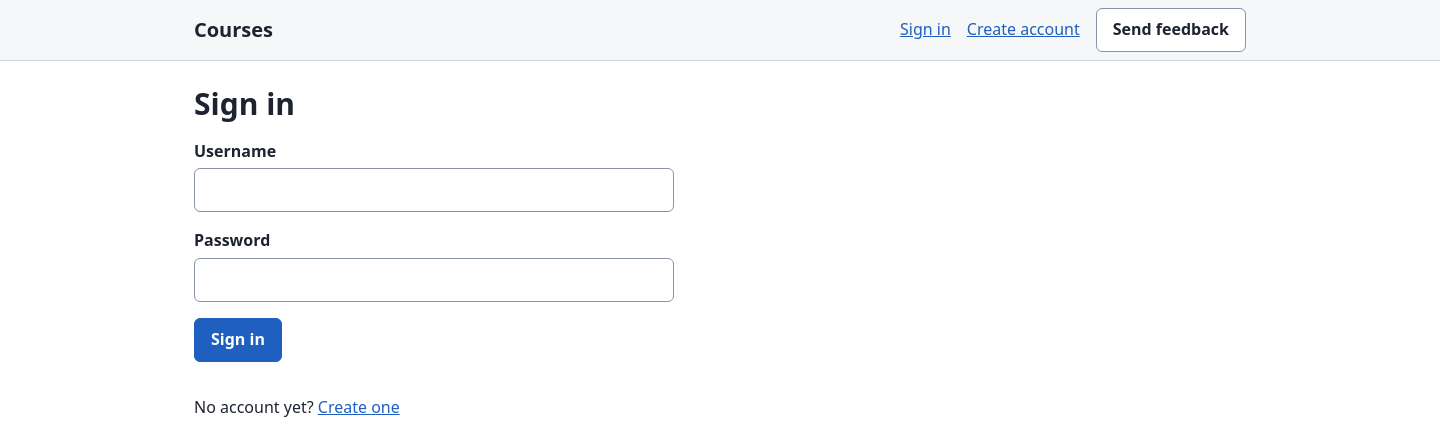
it: ignores a 401 not_authenticated for a request that started before the learner signed in
The image size is (1440, 434).
Expected: the field labelled "Username" is shown, [194,168,674,212]
Click the link "Courses" at (234, 30), box [194,8,273,52]
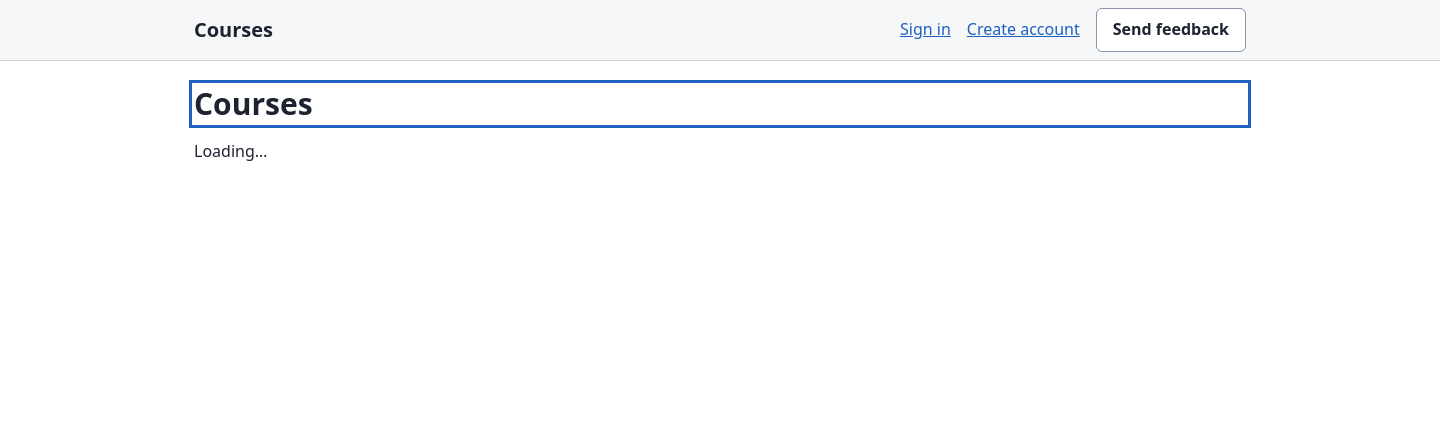
Now the element named "Course list" is shown, box [194,140,267,162]
Click the link "Sign in" at (925, 29), box [900,18,951,40]
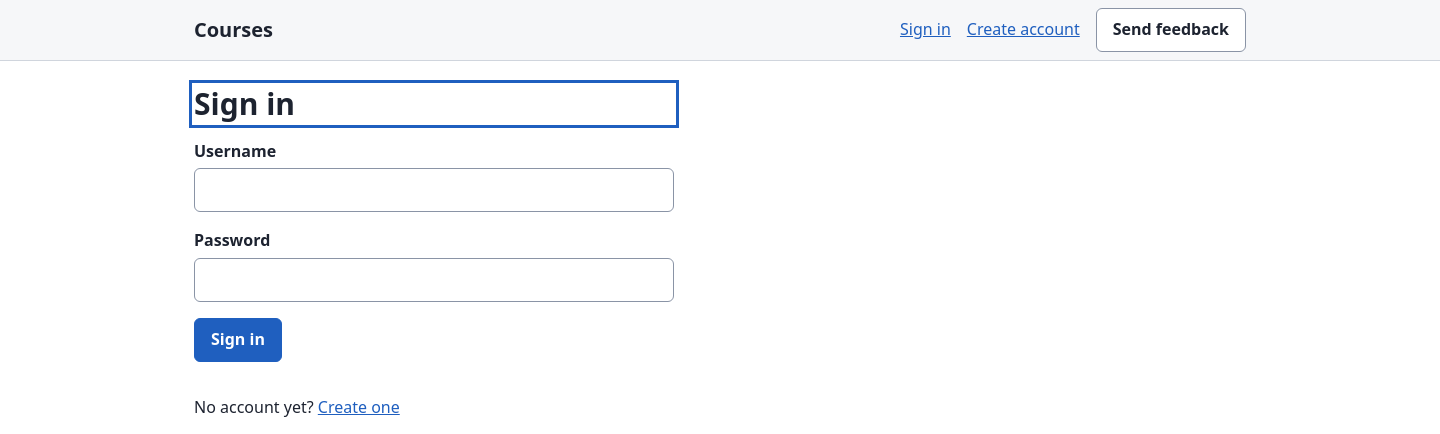
Type "ada_l" into the field labelled "Username" at (434, 190), box [194,168,674,212]
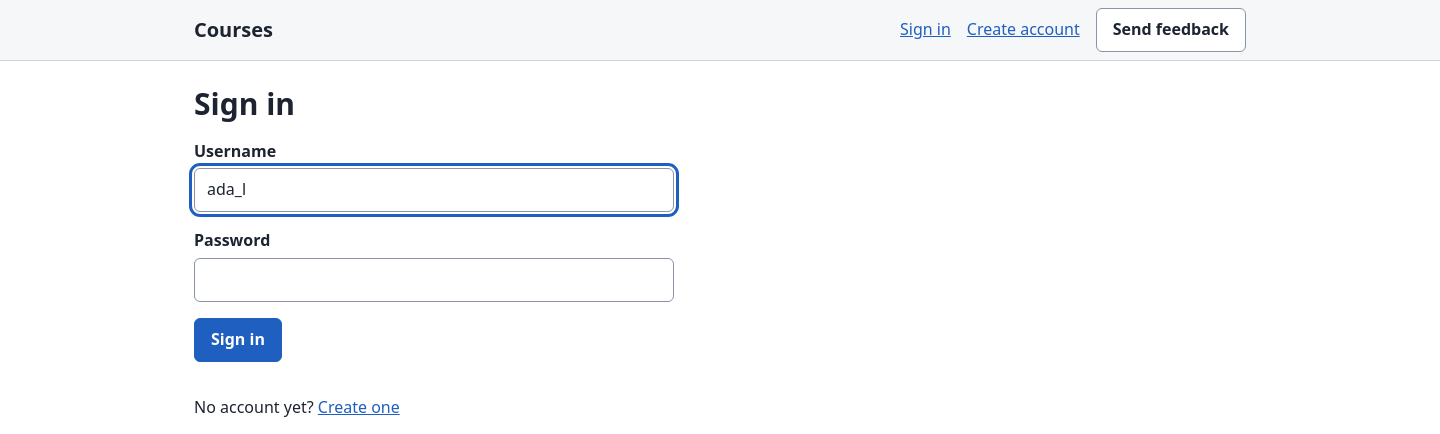
Type "secret-pass" into the password field labelled "Password" at (434, 280), box [194,258,674,302]
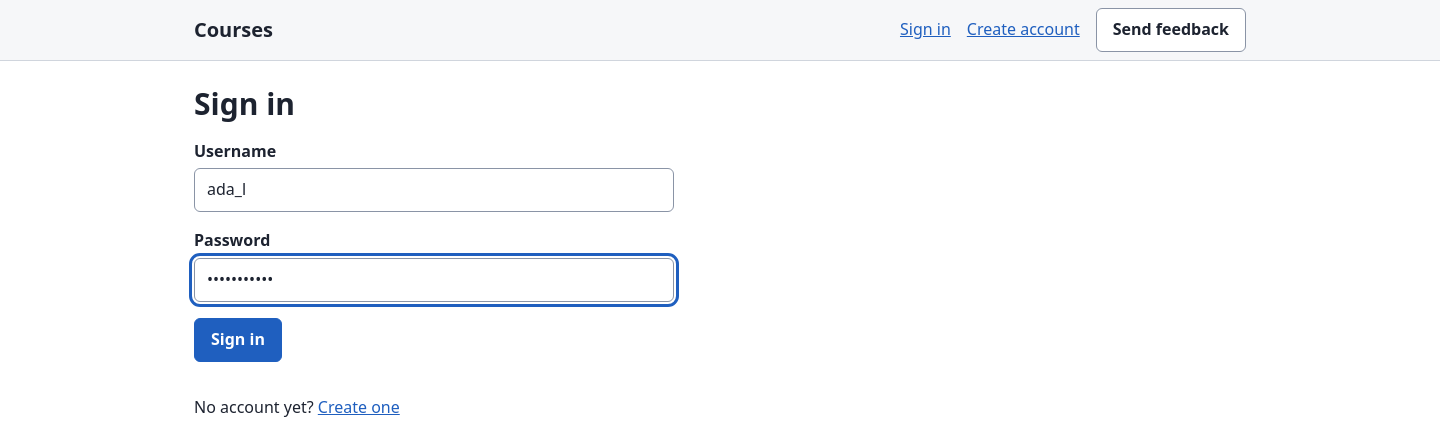
Click the button "Sign in" at (238, 340), box [194,318,282,362]
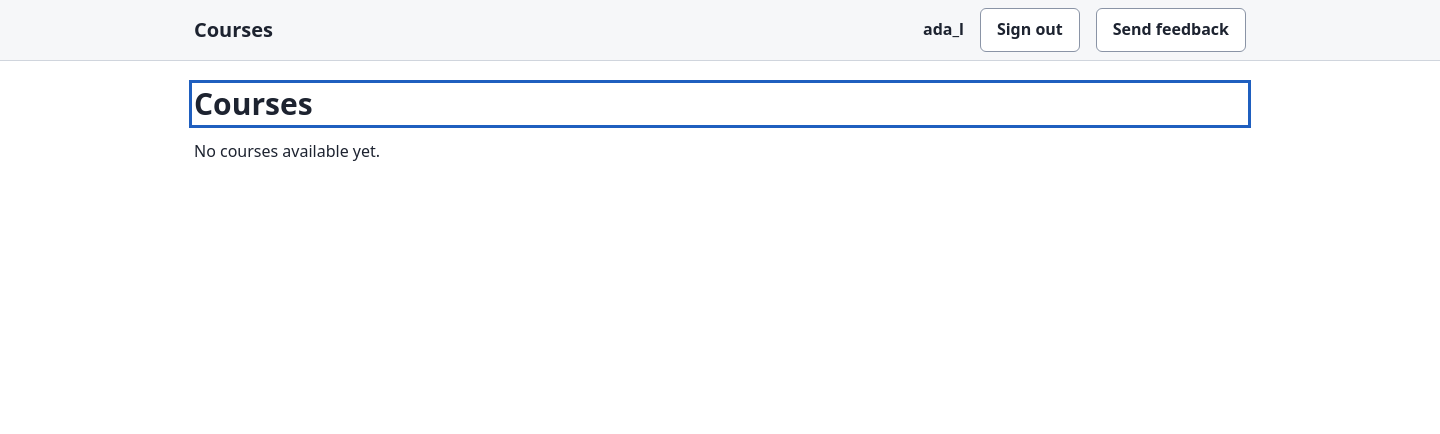
Now the text "ada_l" is shown, box [923,17,964,43]
